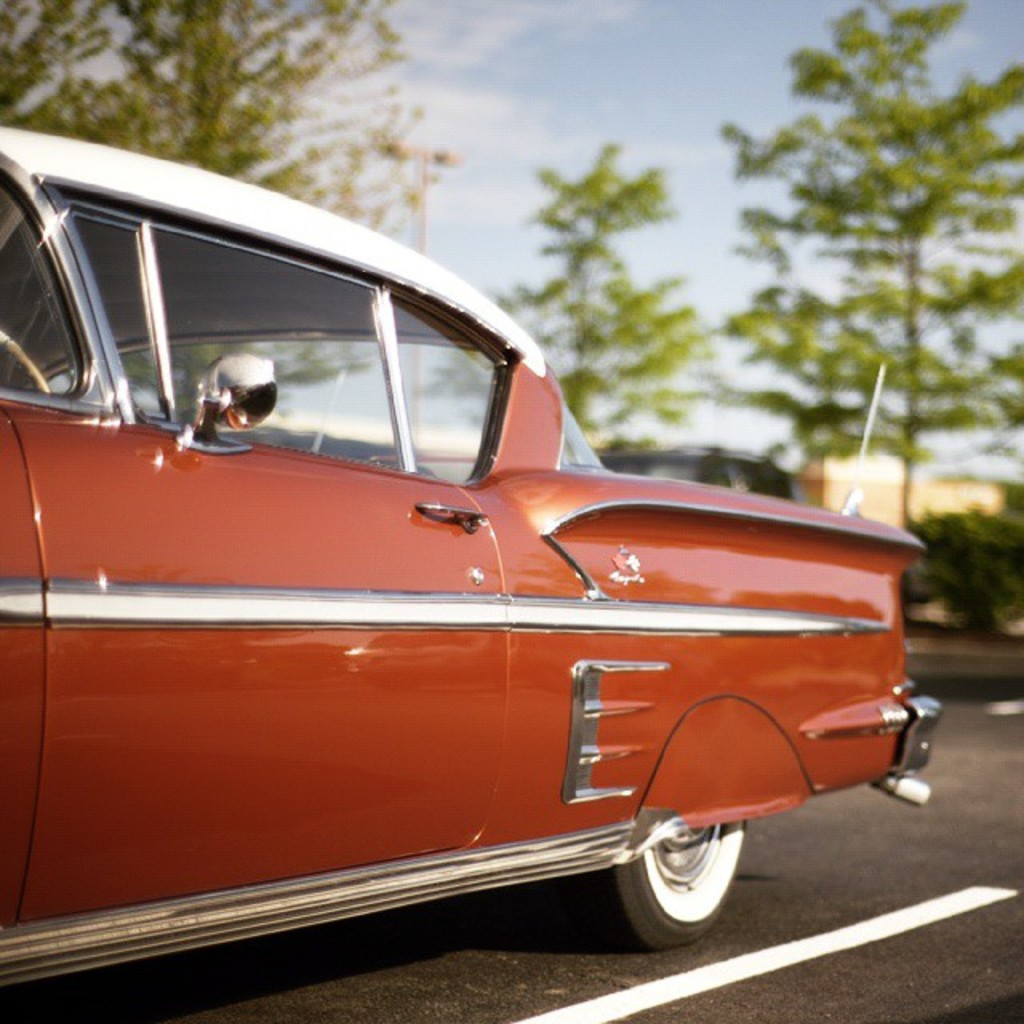Car: (0, 127, 943, 993)
